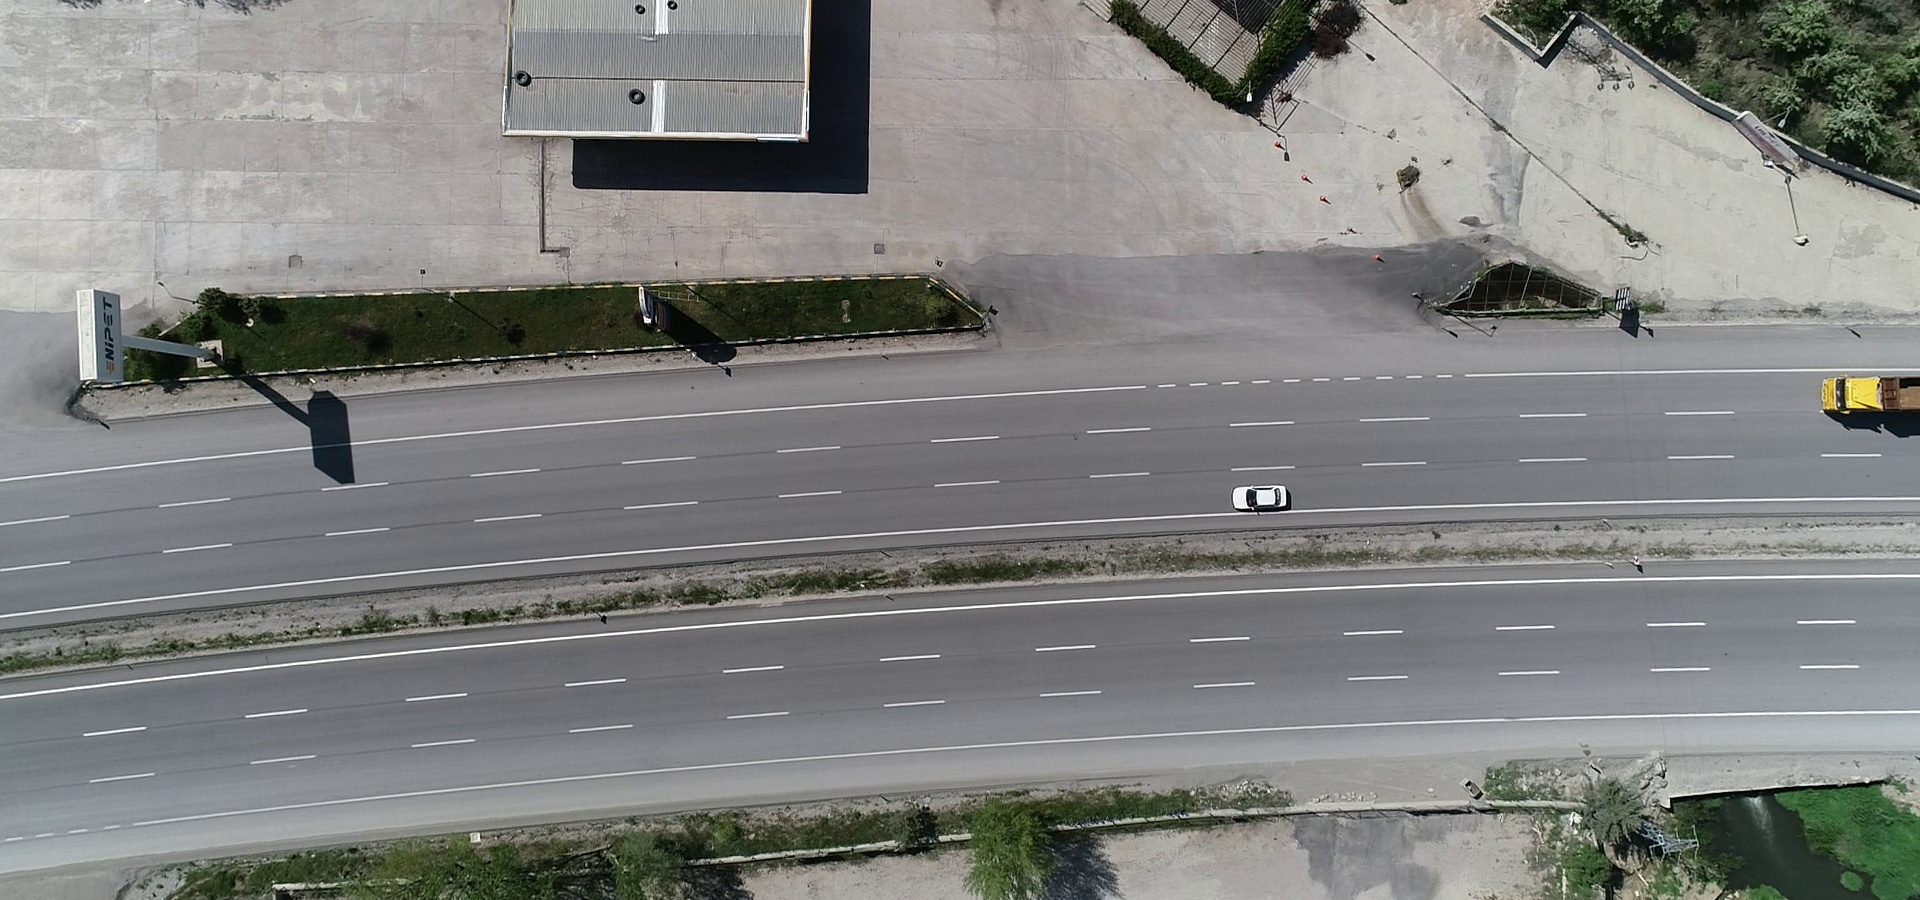araba: (1233, 481, 1300, 517)
kamyon: (1826, 376, 1920, 421)
